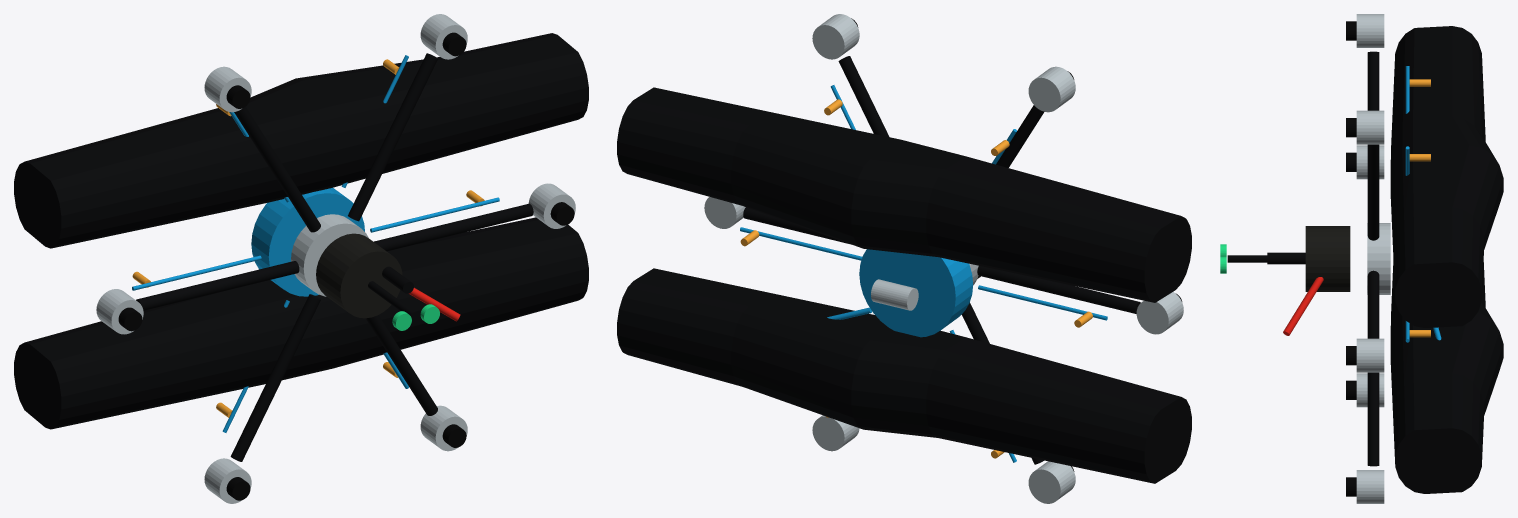
File: amphibious_hexacopter_fusion.obj
The picture shows the model from 3 angles, left to right: view 1: azimuth 30°, elevation 25°; view 2: azimuth 150°, elevation 25°; view 3: azimuth 270°, elevation 25°; orthographic projection. The views are drawn at different scales.
Bounding box in the file's own units: 5.25 × 4.04 × 2.66.
